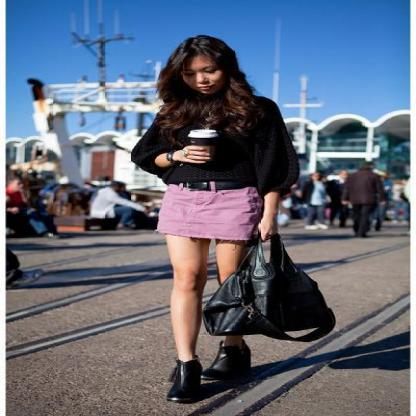bag: (196, 224, 334, 340)
jacket: (130, 110, 298, 202)
shoe: (172, 326, 246, 384)
skirt: (147, 181, 283, 241)
